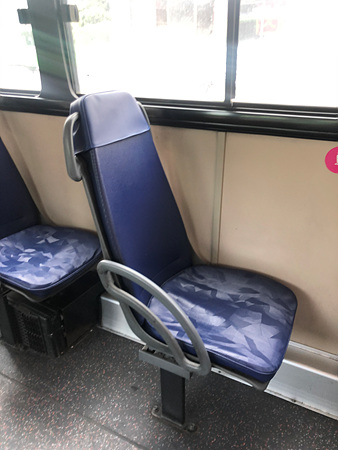seat: (69, 89, 301, 389)
